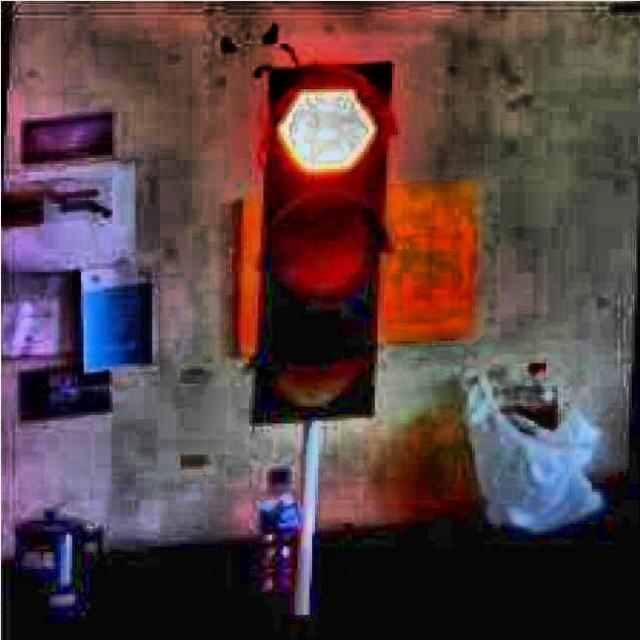red: (265, 59, 392, 427)
